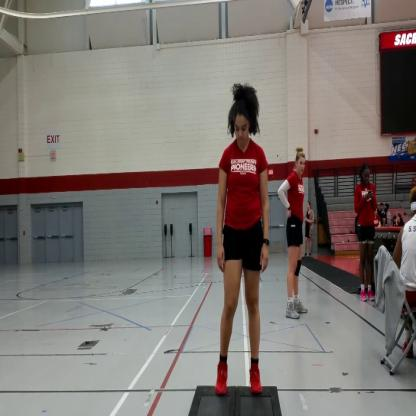lateral_flexion_right: (216, 82, 271, 398)
stance_width_normal: (216, 137, 271, 399)
